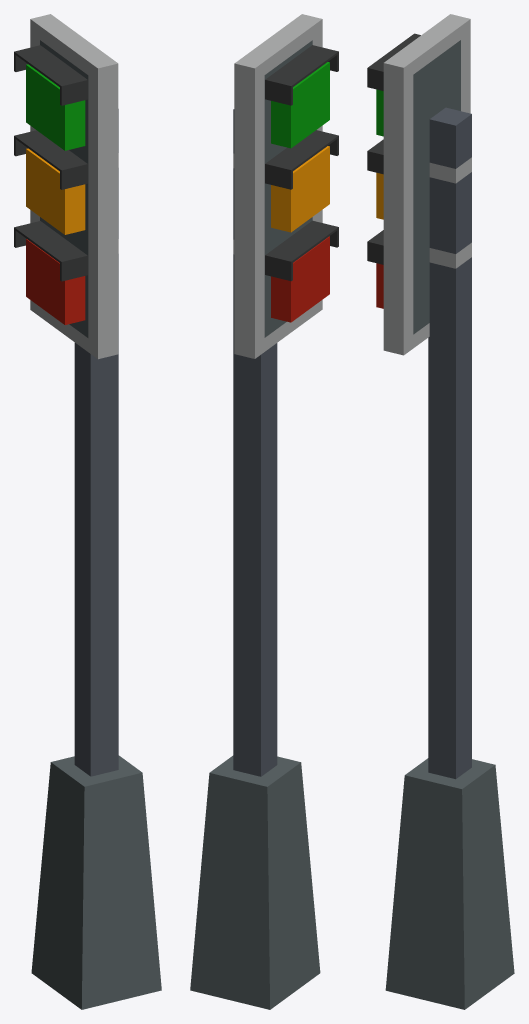
The model's file is traffic light.FBX.
3 renders of one model, left to right at view 1: azimuth 30°, elevation 25°; view 2: azimuth 150°, elevation 25°; view 3: azimuth 330°, elevation 25°, orthographic.
Parts seen in each view (by area): view 1: traffic light; view 2: traffic light; view 3: traffic light.
Part boxes in pixels (x1,y1,x2,y2): traffic light: (14,14,161,1009); traffic light: (190,14,338,1009); traffic light: (367,14,514,1009).
Size of the model in its own units: 1.94 by 17.67 by 2.29.
